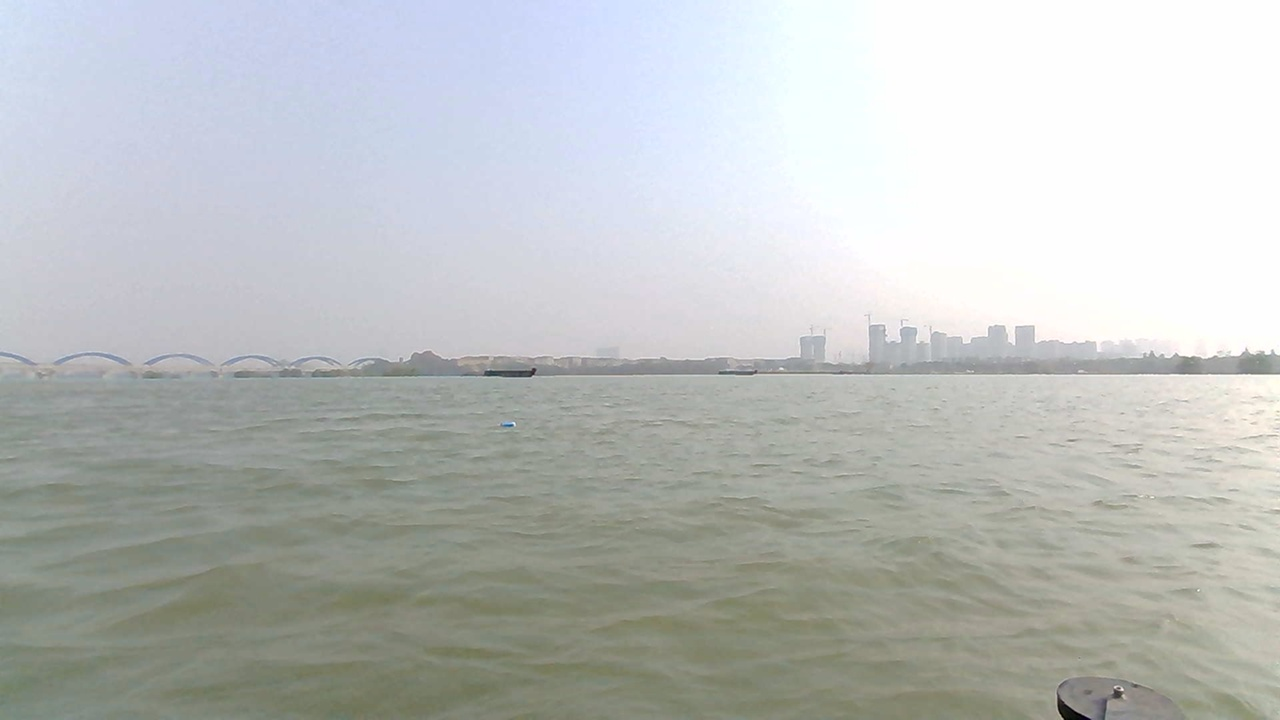bottle: (493, 417, 523, 432)
